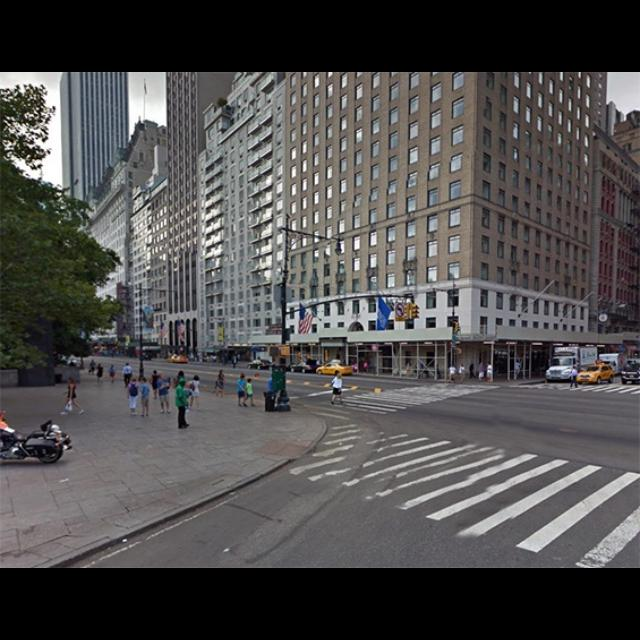head: (180, 380, 188, 390), (178, 371, 186, 379), (158, 374, 166, 382), (68, 378, 74, 386), (338, 373, 344, 379), (270, 373, 276, 379), (195, 375, 201, 381), (141, 379, 147, 385), (132, 378, 138, 384), (126, 362, 132, 368), (97, 363, 103, 369), (242, 375, 246, 381), (220, 370, 224, 376), (154, 370, 158, 376), (488, 362, 492, 366), (248, 380, 252, 384), (112, 366, 115, 368), (574, 368, 576, 370)
person: (60, 376, 88, 418), (174, 377, 192, 431), (157, 370, 176, 416), (172, 369, 190, 411), (263, 372, 281, 412), (186, 373, 204, 413), (126, 376, 142, 420), (138, 376, 154, 418), (331, 372, 347, 408), (236, 372, 250, 411), (241, 378, 257, 410), (212, 368, 228, 399), (148, 370, 164, 400), (122, 362, 136, 390), (95, 362, 106, 390), (569, 366, 581, 390), (106, 363, 118, 387), (484, 360, 494, 386)
